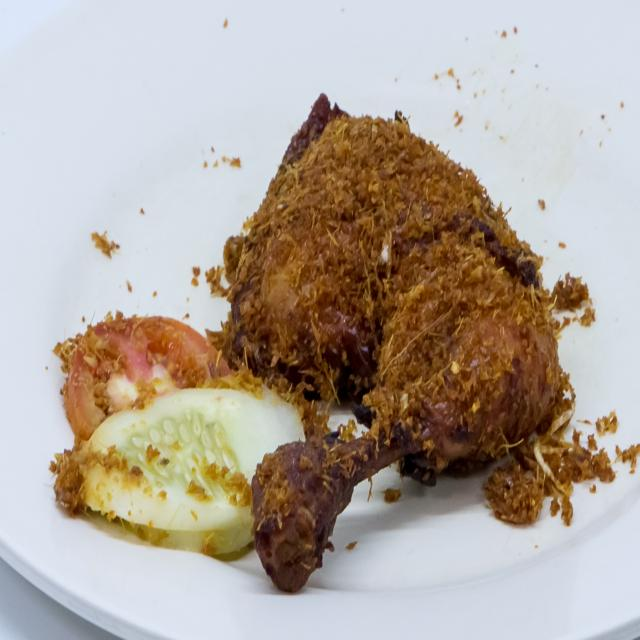Ayam-Goreng-Lengkuas: (200, 69, 570, 615)
